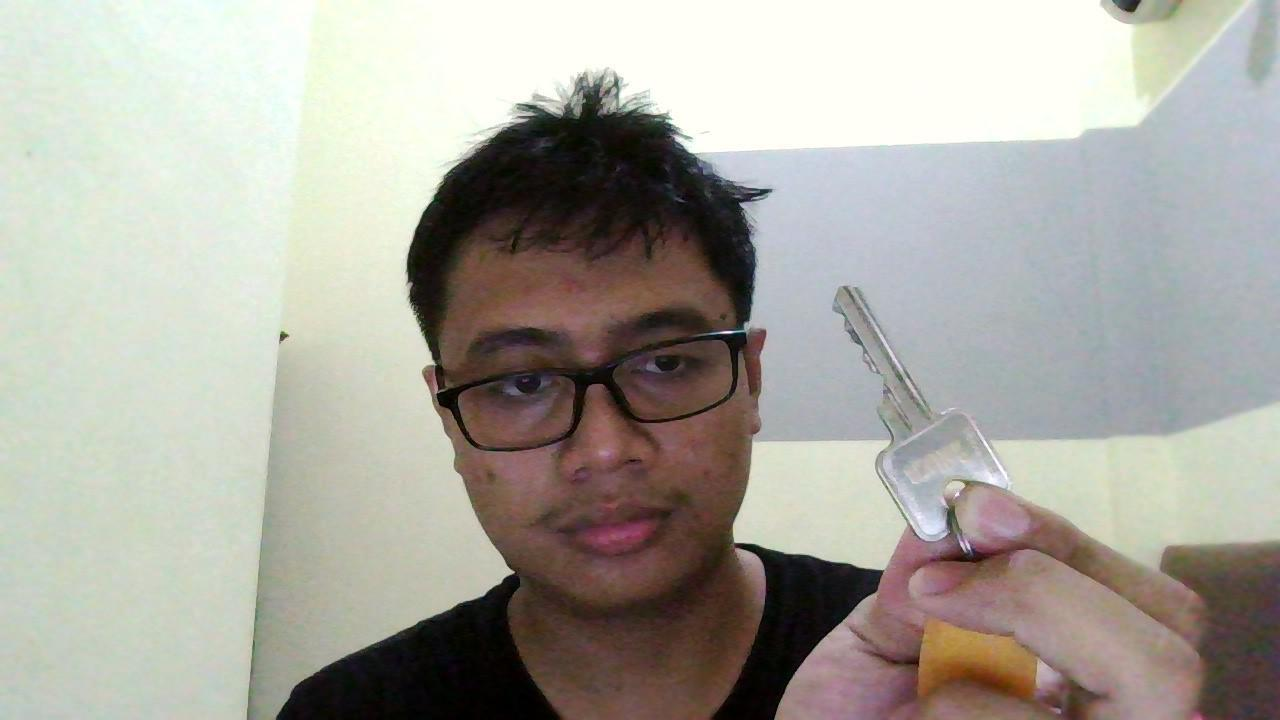keys: (828, 265, 1018, 552)
